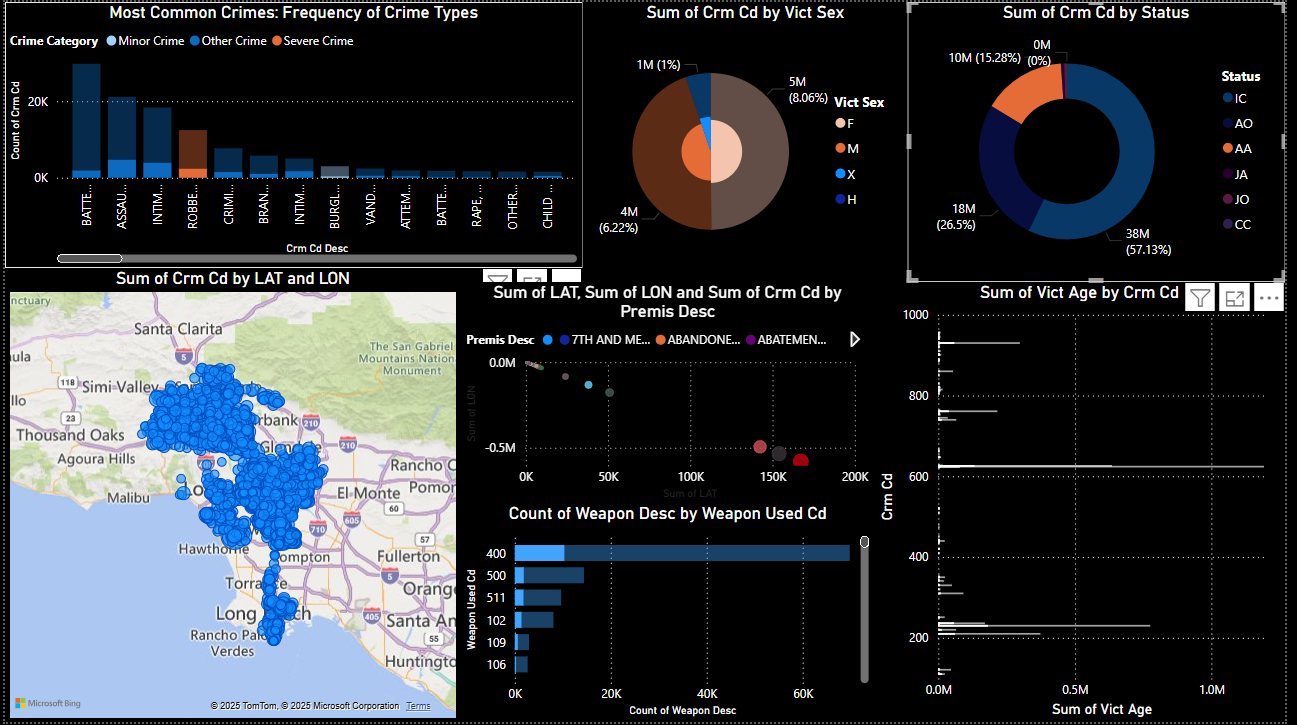

Layout of this report page (visuals, bound fields, positions):
{"tool":"powerbi","page":{"name":"Duplicate of Page 1","canvas":[1280,720],"ordinal":1},"visuals":[{"type":"actionButton","box":[0,0,100,40],"z":1000},{"type":"columnChart","title":"Most Common Crimes: Frequency of Crime Types","fields":{"Category":["Crime_Data_from_2020_to_Present.Crm Cd Desc"],"Y":["CountNonNull(Crime_Data_from_2020_to_Present.Crm Cd)"],"Series":["Crime_Data_from_2020_to_Present.Crime Category"]},"box":[0,0,577.1,265.7],"z":3000},{"type":"barChart","fields":{"Category":["Crime_Data_from_2020_to_Present.Weapon Used Cd"],"Y":["CountNonNull(Crime_Data_from_2020_to_Present.Weapon Desc)"]},"box":[455.7,492.9,412.9,227.1],"z":5000},{"type":"map","fields":{"Y":["Crime_Data_from_2020_to_Present.LAT"],"X":["Crime_Data_from_2020_to_Present.LON"],"Size":["Sum(Crime_Data_from_2020_to_Present.Crm Cd)"]},"box":[0,265.7,455.7,454.3],"z":6000},{"type":"tableEx","fields":{"Values":["Crime_Data_from_2020_to_Present.Premis Desc","Sum(Crime_Data_from_2020_to_Present.Crm Cd)"]},"box":[868.6,257.1,312.9,254.3],"z":7000},{"type":"barChart","fields":{"Category":["Crime_Data_from_2020_to_Present.Crm Cd"],"Y":["Sum(Crime_Data_from_2020_to_Present.Vict Age)"]},"box":[868.6,280,411.4,440],"z":8000},{"type":"pieChart","fields":{"Category":["Crime_Data_from_2020_to_Present.Vict Sex"],"Y":["Sum(Crime_Data_from_2020_to_Present.Crm Cd)"]},"box":[577.1,0,325.7,280],"z":9000},{"type":"donutChart","fields":{"Category":["Crime_Data_from_2020_to_Present.Status"],"Y":["Sum(Crime_Data_from_2020_to_Present.Crm Cd)"]},"box":[902.9,0,377.1,280],"z":10000},{"type":"scatterChart","fields":{"X":["Sum(Crime_Data_from_2020_to_Present.LAT)"],"Y":["Sum(Crime_Data_from_2020_to_Present.LON)"],"Series":["Crime_Data_from_2020_to_Present.Premis Desc"],"Size":["Sum(Crime_Data_from_2020_to_Present.Crm Cd)"]},"box":[455.7,280,412.9,222.9],"z":11000}]}

Visuals, with their boxes in screenshot pixels (x1, y1, x2, y2), scaled from the page's 1280x720 canvas onto the 1297x725 screenshot:
actionButton: (0,0,101,40)
"Most Common Crimes: Frequency of Crime Types" columnChart: (0,0,585,268)
barChart - Crime_Data_from_2020_to_Present.Weapon Used Cd x CountNonNull(Crime_Data_from_2020_to_Present.Weapon Desc): (462,496,880,724)
map - Crime_Data_from_2020_to_Present.LAT x Crime_Data_from_2020_to_Present.LON: (0,268,462,724)
tableEx - Crime_Data_from_2020_to_Present.Premis Desc x Sum(Crime_Data_from_2020_to_Present.Crm Cd): (880,259,1197,515)
barChart - Crime_Data_from_2020_to_Present.Crm Cd x Sum(Crime_Data_from_2020_to_Present.Vict Age): (880,282,1296,724)
pieChart - Crime_Data_from_2020_to_Present.Vict Sex x Sum(Crime_Data_from_2020_to_Present.Crm Cd): (585,0,915,282)
donutChart - Crime_Data_from_2020_to_Present.Status x Sum(Crime_Data_from_2020_to_Present.Crm Cd): (915,0,1296,282)
scatterChart - Sum(Crime_Data_from_2020_to_Present.LAT) x Sum(Crime_Data_from_2020_to_Present.LON): (462,282,880,506)
